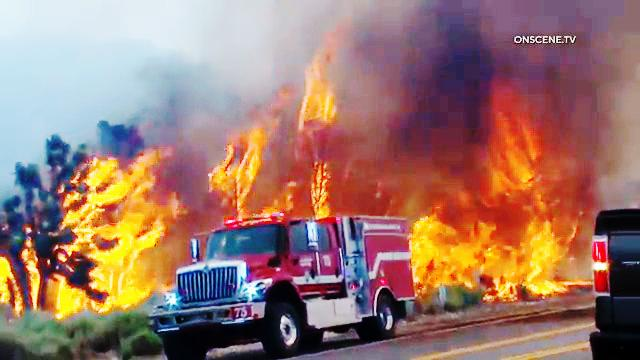fire: (0, 159, 164, 326), (412, 214, 568, 303), (209, 139, 275, 207), (303, 168, 331, 225)
